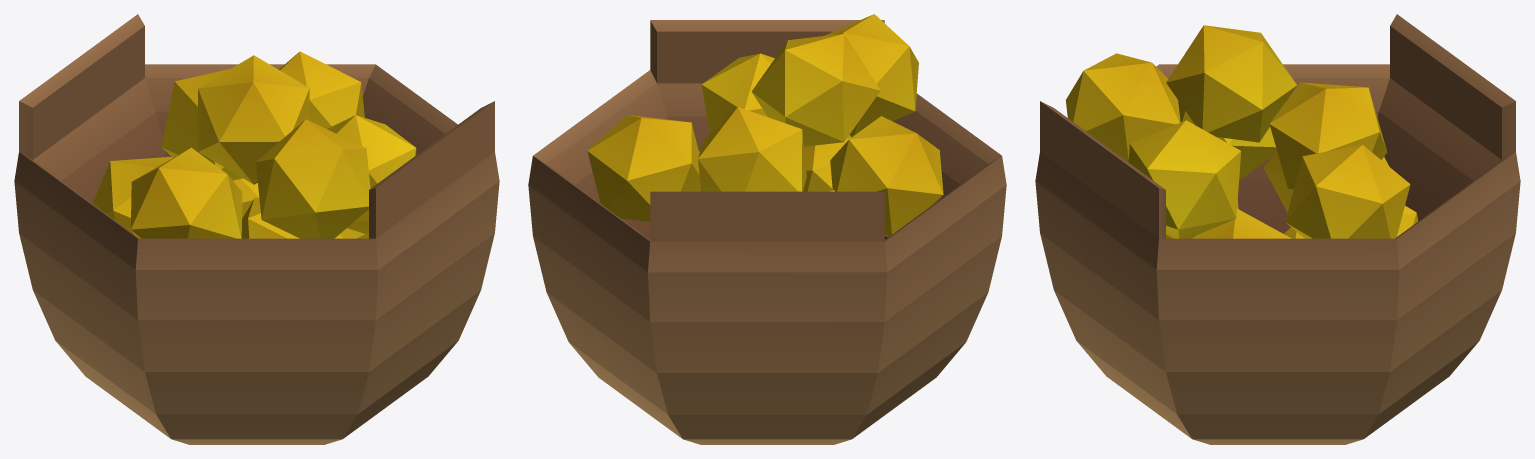
The model's file is pappa per apette_royal jelly.fbx.
3 views of the same model, side by side, from view 1: azimuth 30°, elevation 25°; view 2: azimuth 150°, elevation 25°; view 3: azimuth 270°, elevation 25° (orthographic).
Visible parts, largest first — view 1: cestino 1, Icosphere.013, Icosphere.012, Icosphere.008, Icosphere.014, Icosphere.009, Icosphere.011, Icosphere.004, Icosphere.007, Icosphere.010; view 2: cestino 1, Icosphere.012, Icosphere.014, Icosphere.008, Icosphere.011, Icosphere.013, Icosphere.009, Icosphere.007; view 3: cestino 1, Icosphere.012, Icosphere.014, Icosphere.009, Icosphere.013, Icosphere.011, Icosphere.006, Icosphere.008, Icosphere.004.
Boxes of the visible parts, x1,y1,x2,y2 form: cestino 1: (14, 14, 499, 444); Icosphere.013: (255, 119, 370, 238); Icosphere.012: (198, 55, 309, 184); Icosphere.008: (131, 147, 242, 238); Icosphere.014: (279, 51, 364, 128); Icosphere.009: (327, 115, 416, 233); Icosphere.011: (161, 69, 242, 180); Icosphere.004: (92, 156, 172, 234); Icosphere.007: (241, 197, 343, 238); Icosphere.010: (233, 178, 259, 218); cestino 1: (528, 20, 1006, 444); Icosphere.012: (751, 33, 880, 146); Icosphere.014: (587, 114, 701, 221); Icosphere.008: (830, 116, 943, 236); Icosphere.011: (698, 107, 806, 191); Icosphere.013: (824, 14, 918, 136); Icosphere.009: (701, 53, 774, 133); Icosphere.007: (803, 135, 851, 191); cestino 1: (1035, 14, 1520, 444); Icosphere.012: (1166, 25, 1296, 142); Icosphere.014: (1285, 144, 1410, 238); Icosphere.009: (1128, 120, 1241, 238); Icosphere.013: (1065, 53, 1180, 162); Icosphere.011: (1269, 82, 1387, 189); Icosphere.006: (1192, 208, 1291, 238); Icosphere.008: (1178, 100, 1277, 180); Icosphere.004: (1263, 152, 1389, 212).
Size of the model in its own units: 243 by 228 by 281.
Materials: 14 (14 with a texture image).
